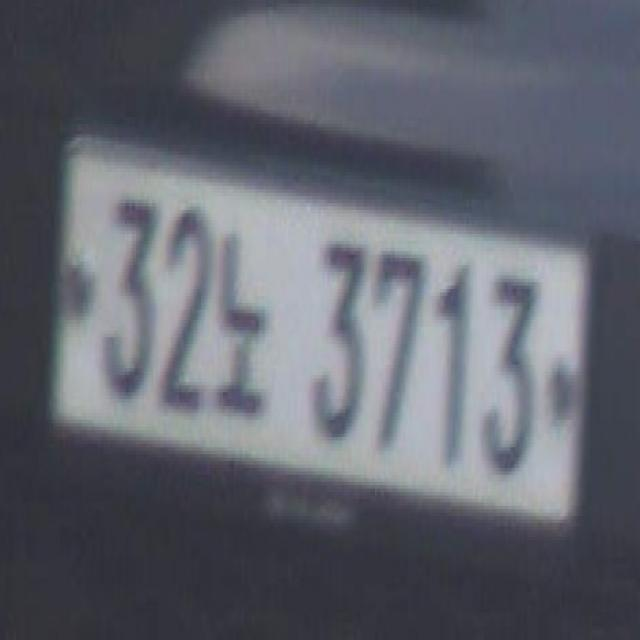1: (434, 254, 476, 472)
2: (163, 199, 213, 413)
3: (104, 189, 158, 413), (482, 265, 538, 478), (314, 227, 365, 447)
7: (370, 237, 425, 468)
license_plate: (45, 131, 594, 533)
no: (209, 231, 269, 430)
